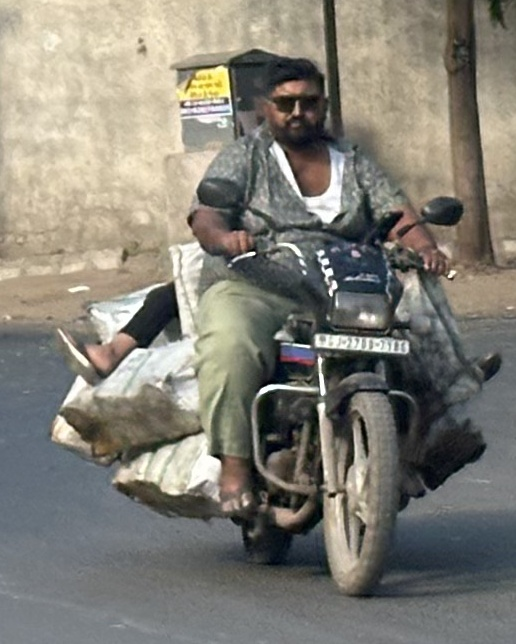BikeWithRider: (67, 54, 505, 594)
NoHelmet: (257, 55, 332, 143)
